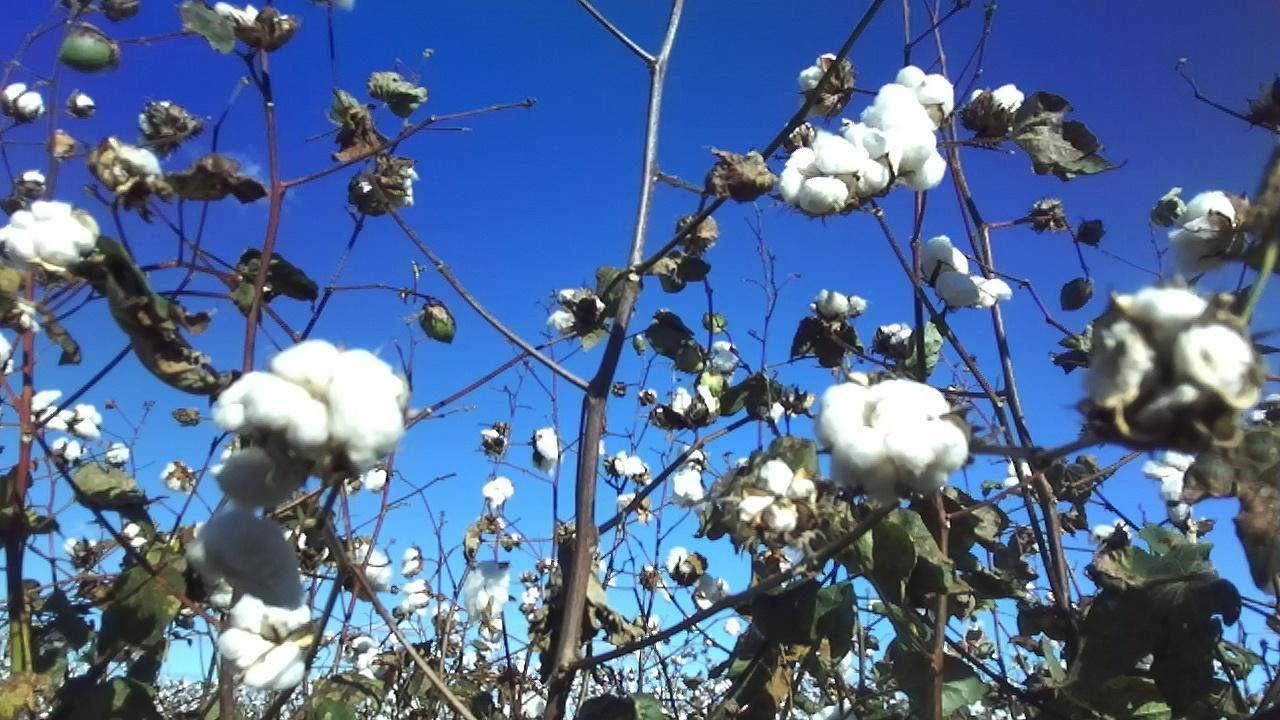cotton_ready: (1086, 290, 1255, 442), (213, 341, 407, 470), (816, 382, 970, 497), (844, 85, 947, 191), (204, 511, 305, 610), (780, 130, 894, 217), (216, 593, 312, 694), (921, 233, 1014, 310), (1165, 190, 1241, 282), (3, 199, 100, 269), (737, 459, 816, 534), (215, 447, 313, 507), (547, 287, 605, 350), (893, 65, 957, 109), (969, 82, 1025, 132)
